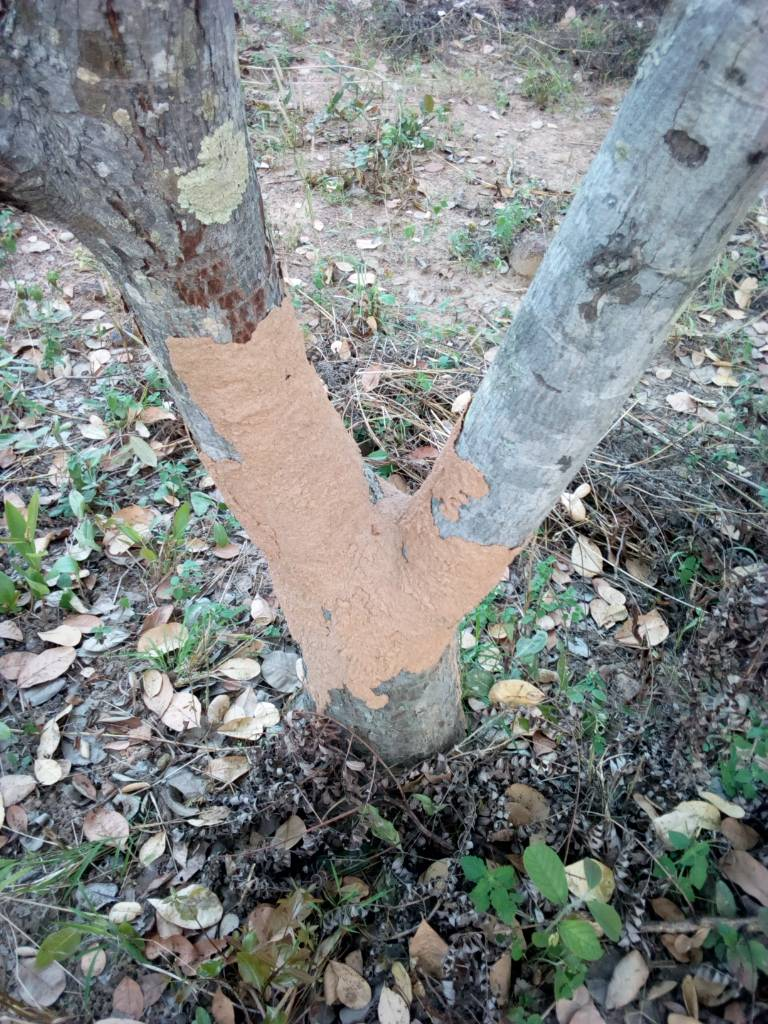Termites: (275, 511, 457, 696), (183, 325, 338, 513)
